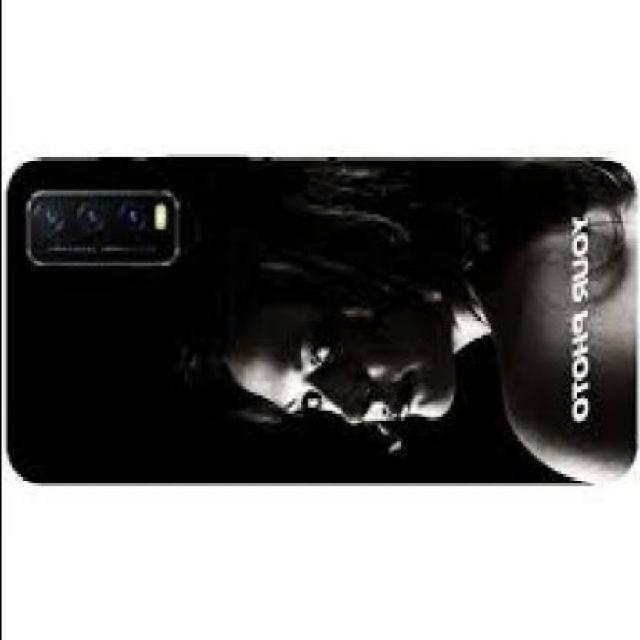cellphone: (2, 156, 636, 489)
